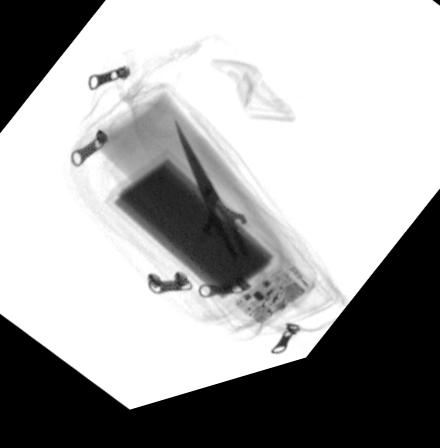Powerbank: (106, 155, 313, 349)
Scissors: (172, 127, 284, 299)
